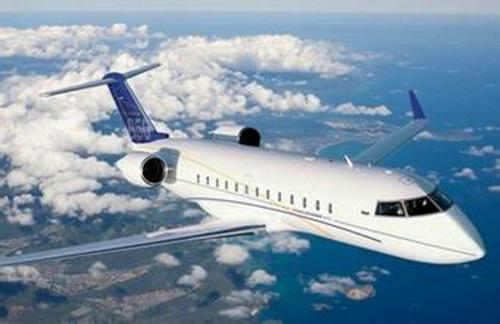airplane: (3, 60, 490, 271)
